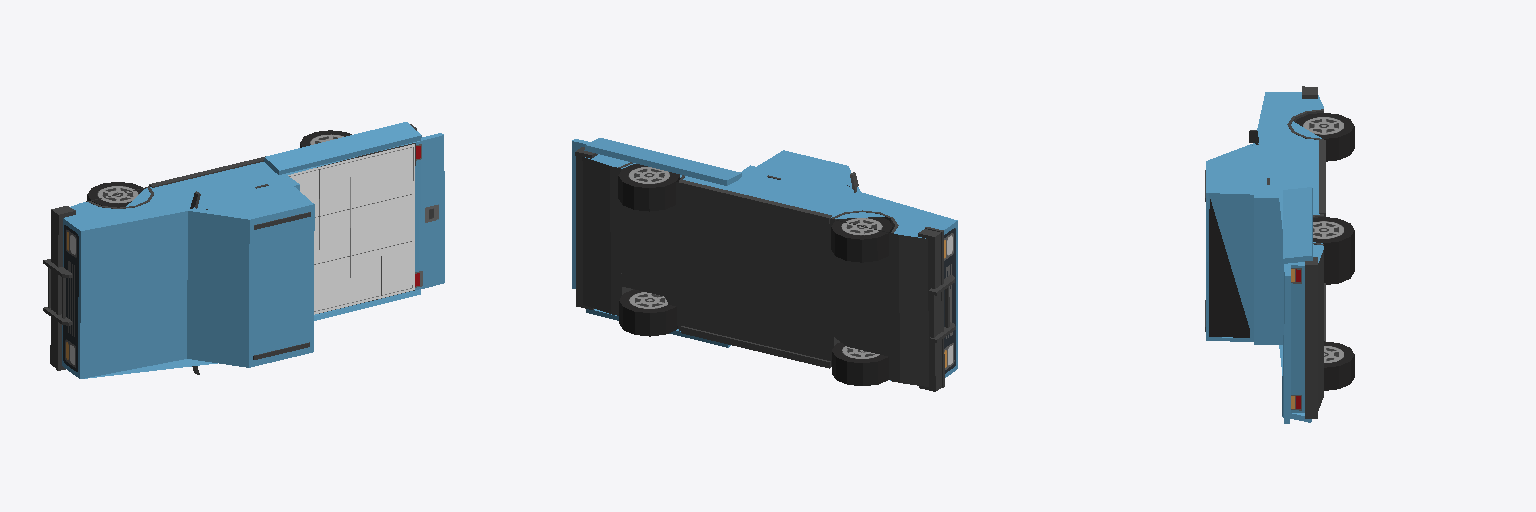
3 views of the same model, side by side, from view 1: azimuth 30°, elevation 25°; view 2: azimuth 150°, elevation 25°; view 3: azimuth 270°, elevation 25° (orthographic).
Parts seen in each view (by area): view 1: SPW_Vehicle_Land_Static_Pick_Up_Truck_Color03, Plane_Plane.001; view 2: SPW_Vehicle_Land_Static_Pick_Up_Truck_Color03; view 3: SPW_Vehicle_Land_Static_Pick_Up_Truck_Color03.
Part boxes in pixels (left/top/right/bottom): SPW_Vehicle_Land_Static_Pick_Up_Truck_Color03: left=43, top=122, right=444, bottom=378; Plane_Plane.001: left=288, top=144, right=414, bottom=314; SPW_Vehicle_Land_Static_Pick_Up_Truck_Color03: left=572, top=138, right=957, bottom=391; SPW_Vehicle_Land_Static_Pick_Up_Truck_Color03: left=1205, top=86, right=1354, bottom=423.
Size of the model in its own units: 10.38 by 4.71 by 3.52.
2 materials, 2 textured.